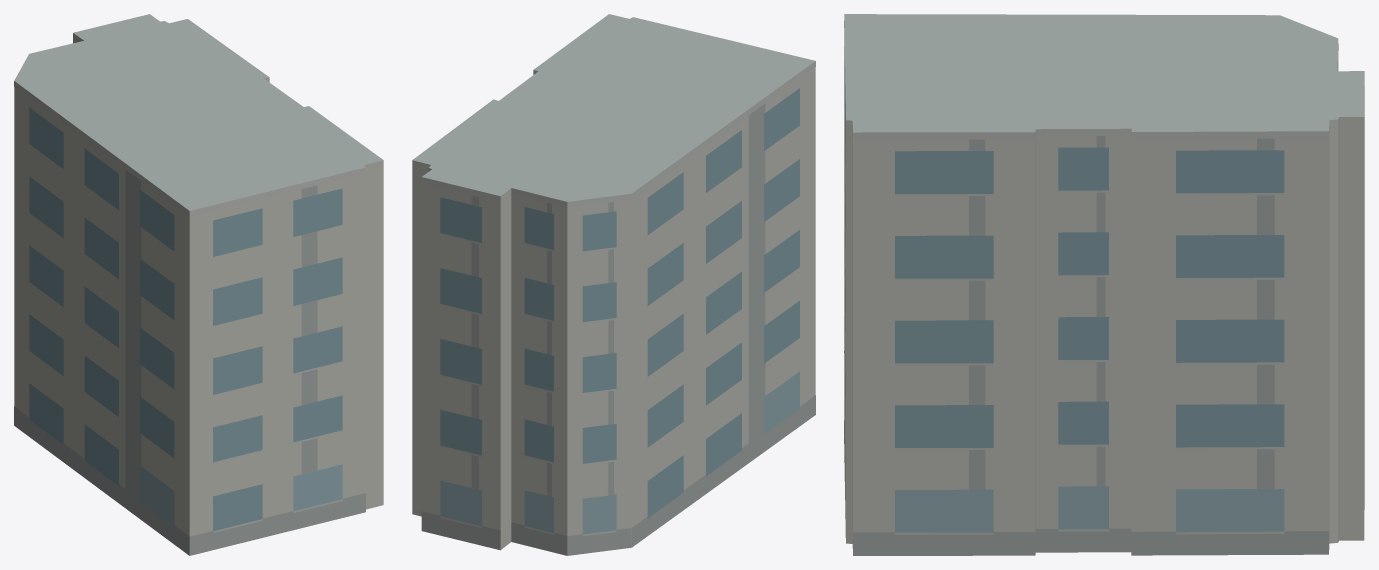
The model's file is survey-upis-32942402.glb.
3 views of the same model, side by side, from view 1: azimuth 30°, elevation 25°; view 2: azimuth 150°, elevation 25°; view 3: azimuth 270°, elevation 25° (orthographic). The views are drawn at different scales.
Parts seen in each view (by area): view 1: survey-upis-32942402.tmp; view 2: survey-upis-32942402.tmp; view 3: survey-upis-32942402.tmp.
Part boxes in pixels (x1,y1,x2,y2): survey-upis-32942402.tmp: [14, 14, 383, 555]; survey-upis-32942402.tmp: [412, 14, 815, 555]; survey-upis-32942402.tmp: [844, 14, 1364, 555].
Bounding box in the file's own units: 8.53 × 14.2 × 15.83.
